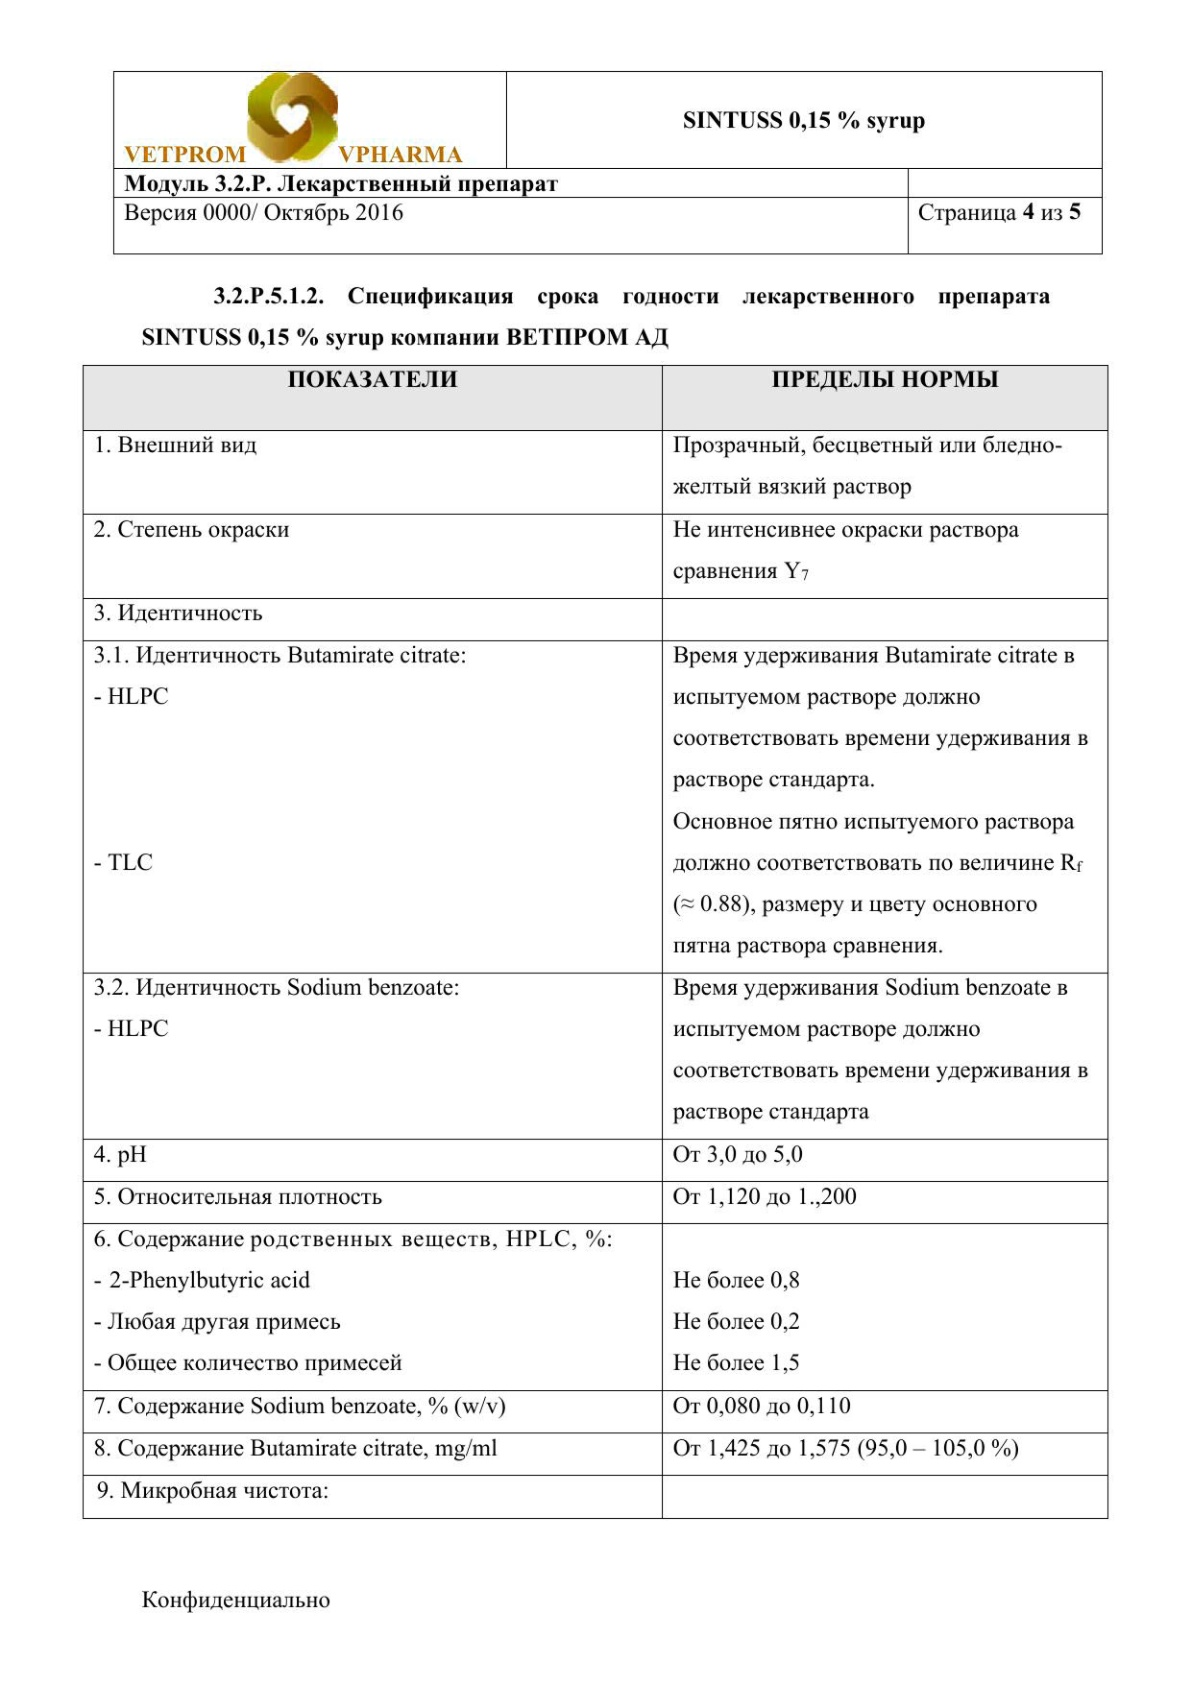full_lined: (81, 364, 1109, 1521)
merged_cells: (112, 68, 1104, 255)
